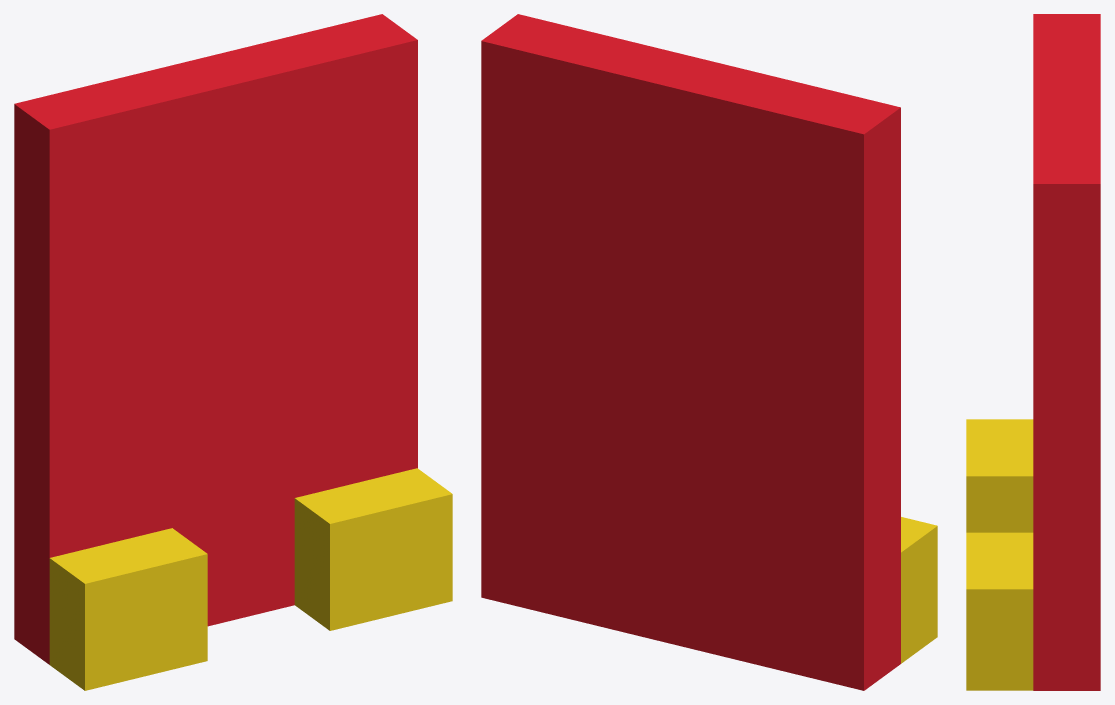
The model's file is tinker.obj.
3 views of the same model, side by side, from view 1: azimuth 30°, elevation 25°; view 2: azimuth 150°, elevation 25°; view 3: azimuth 270°, elevation 25° (orthographic). The views are drawn at different scales.
Parts seen in each view (by area): view 1: group_0_15277357, group_0_16768282; view 2: group_0_15277357, group_0_16768282; view 3: group_0_15277357, group_0_16768282.
Boxes of the visible parts, bbox=[...] form: group_0_15277357: bbox=[14, 14, 417, 664]; group_0_16768282: bbox=[49, 468, 452, 690]; group_0_15277357: bbox=[481, 14, 900, 690]; group_0_16768282: bbox=[901, 517, 937, 663]; group_0_15277357: bbox=[1033, 14, 1100, 690]; group_0_16768282: bbox=[966, 419, 1033, 690].
Size of the model in its own units: 72 by 100 by 24.
